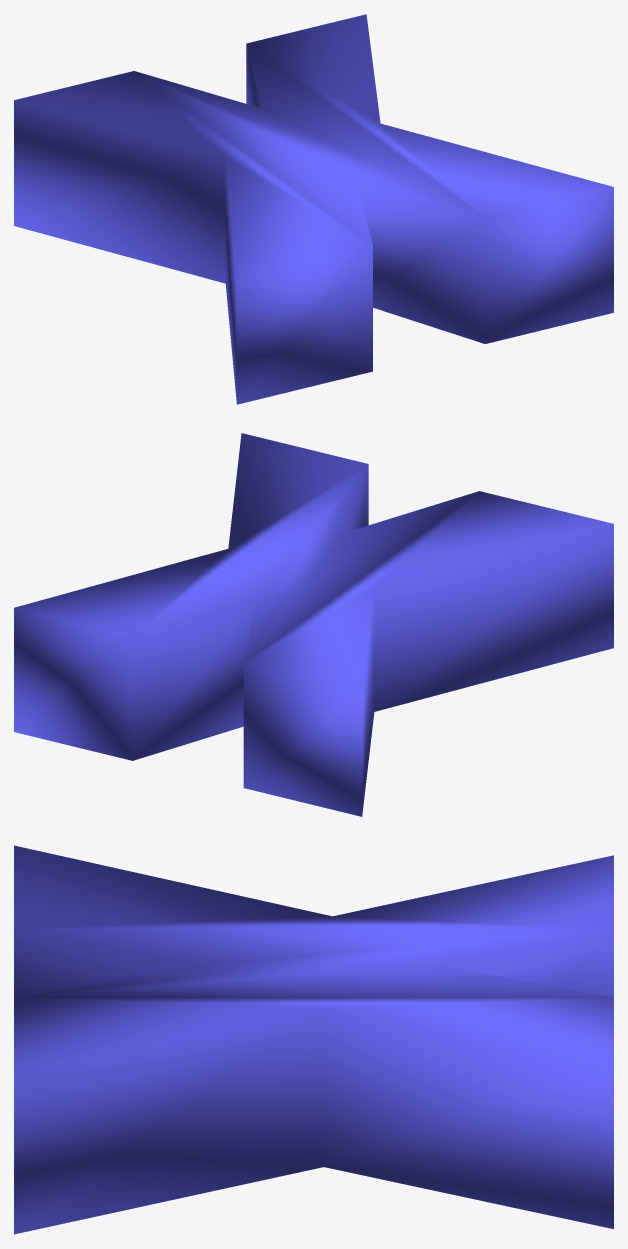
3 views of the same model, one above another, from view 1: azimuth 30°, elevation 25°; view 2: azimuth 150°, elevation 25°; view 3: azimuth 270°, elevation 25° (orthographic). The views are drawn at different scales.
Parts seen in each view (by area): view 1: X1; view 2: X1; view 3: X1.
Boxes of the visible parts, x1=… form: X1: x1=14, y1=14, x2=613, y2=404; X1: x1=14, y1=433, x2=613, y2=816; X1: x1=14, y1=845, x2=613, y2=1234.
Size of the model in its own units: 18.53 by 5.91 by 20.33.
